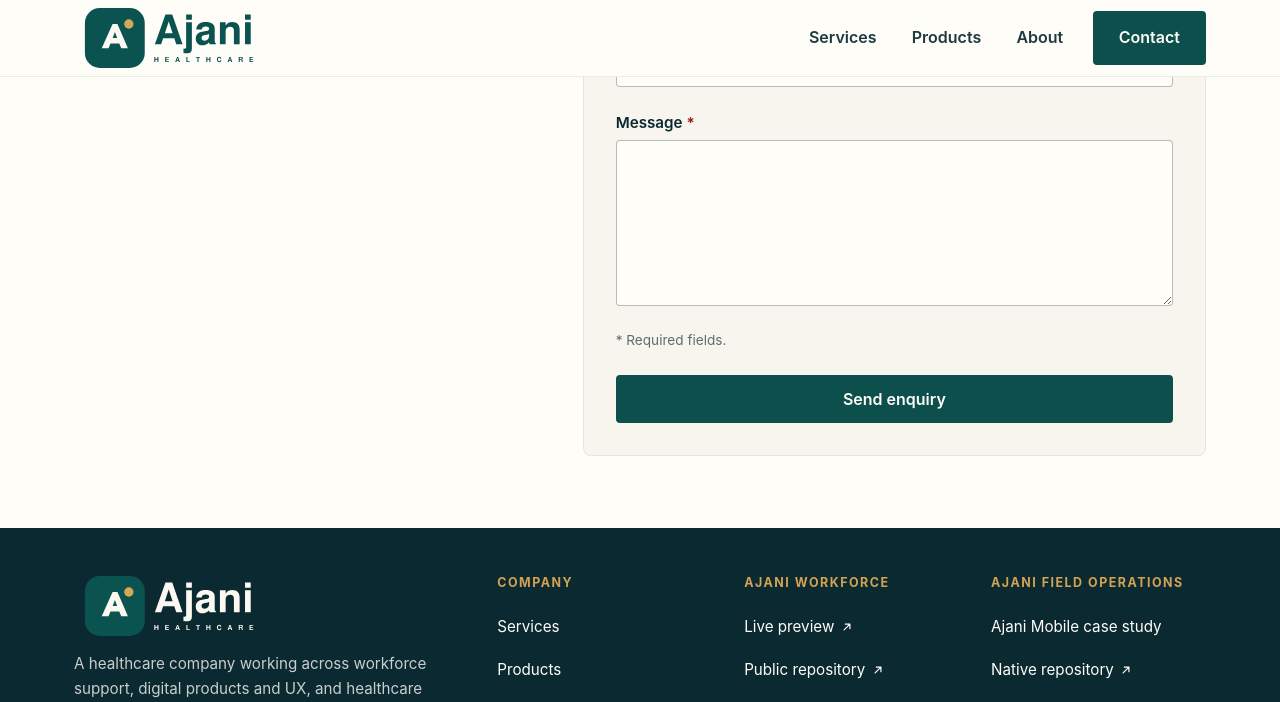
Test: form status rendering › reports validation failures without contacting the provider
(page scrolled)
Click the button "Send enquiry": {"x": 894, "y": 399} top-left (616, 375), bottom-right (1173, 423)
(page scrolled)
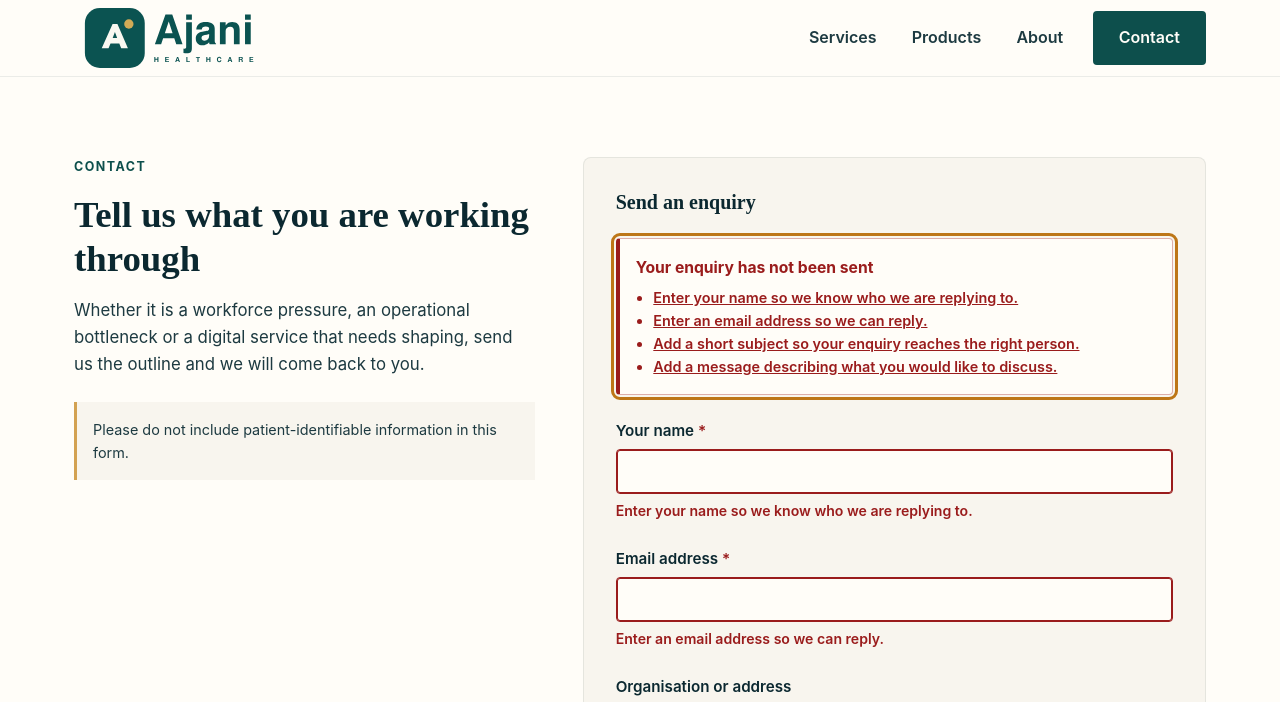
Expected: the message shows "Your enquiry has not been sent", top-left (636, 258), bottom-right (874, 277)
Expected: the link "Enter your name so we know who we are replying to." is shown, top-left (653, 289), bottom-right (1018, 306)
Expected: the link "Enter an email address so we can reply." is shown, top-left (653, 312), bottom-right (928, 329)
